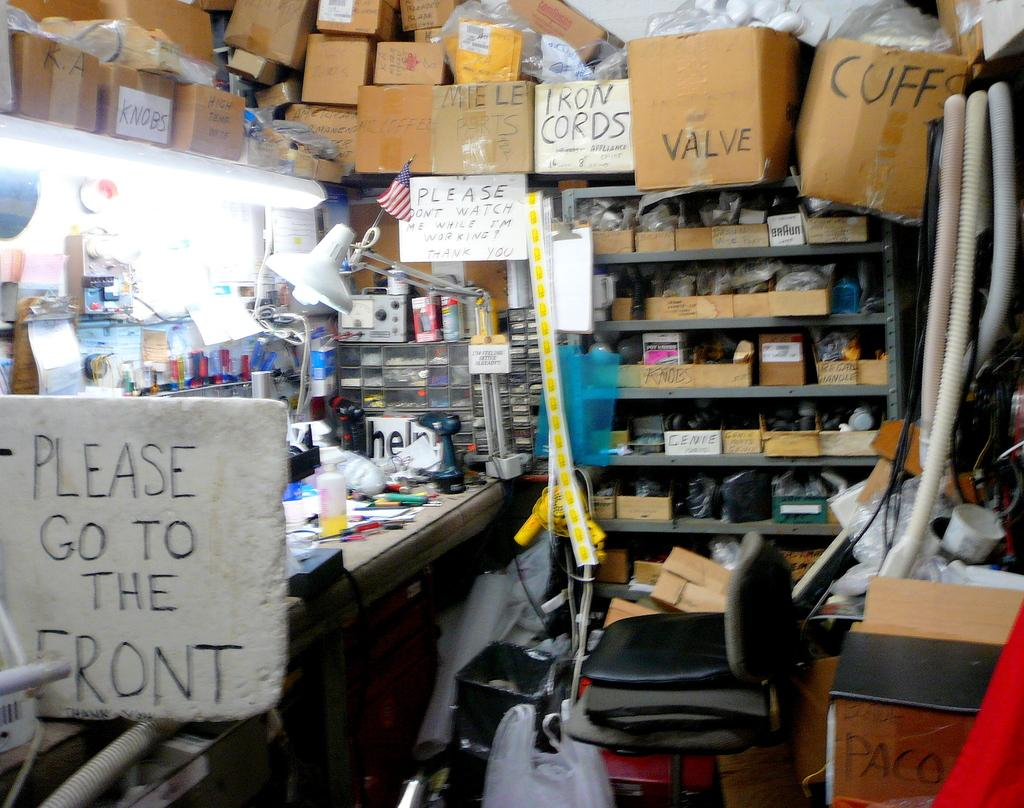Chair: (556, 530, 796, 806)
